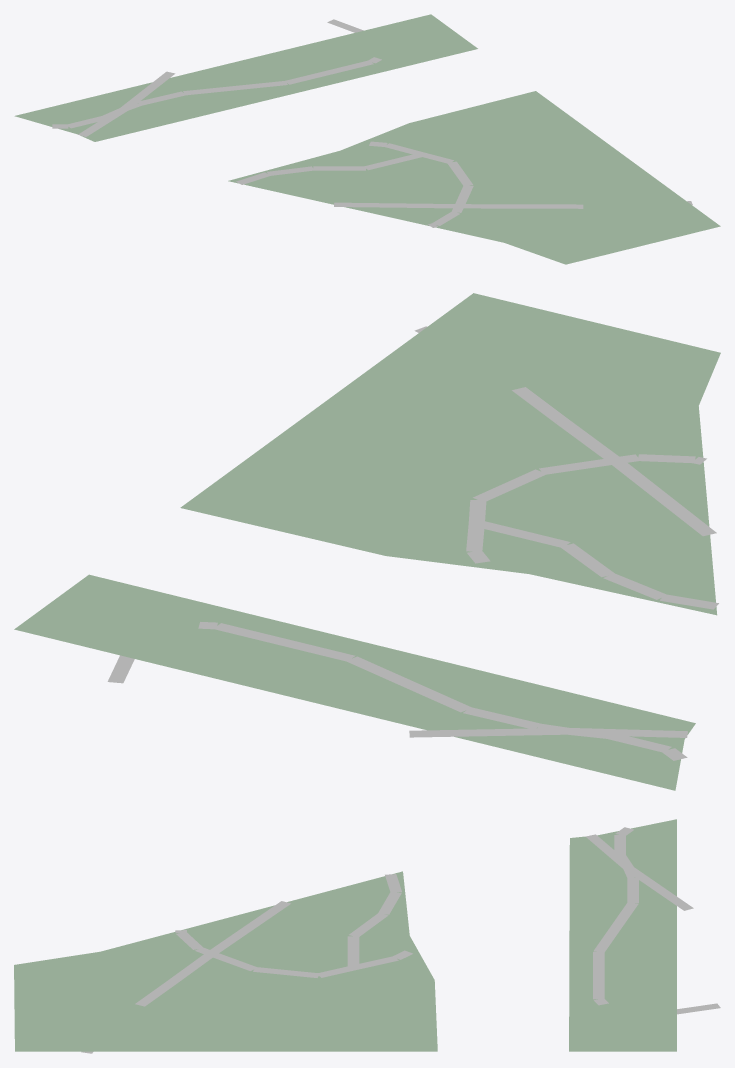
3 views of the same model, one above another, from view 1: azimuth 30°, elevation 25°; view 2: azimuth 150°, elevation 25°; view 3: azimuth 270°, elevation 25° (orthographic). The views are drawn at different scales.
Size of the model in its own units: 143 by 0.1759 by 182.
